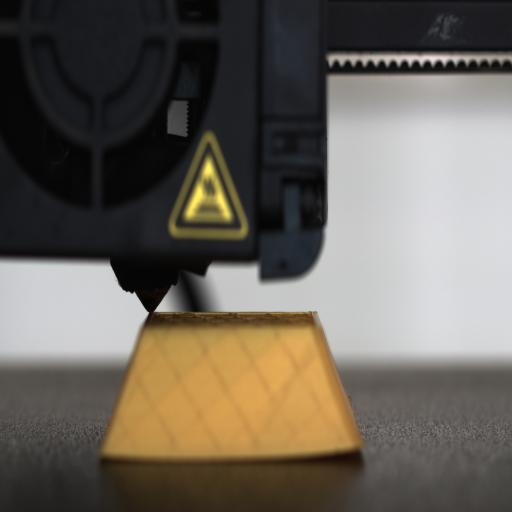warp: (299, 426, 371, 462)
